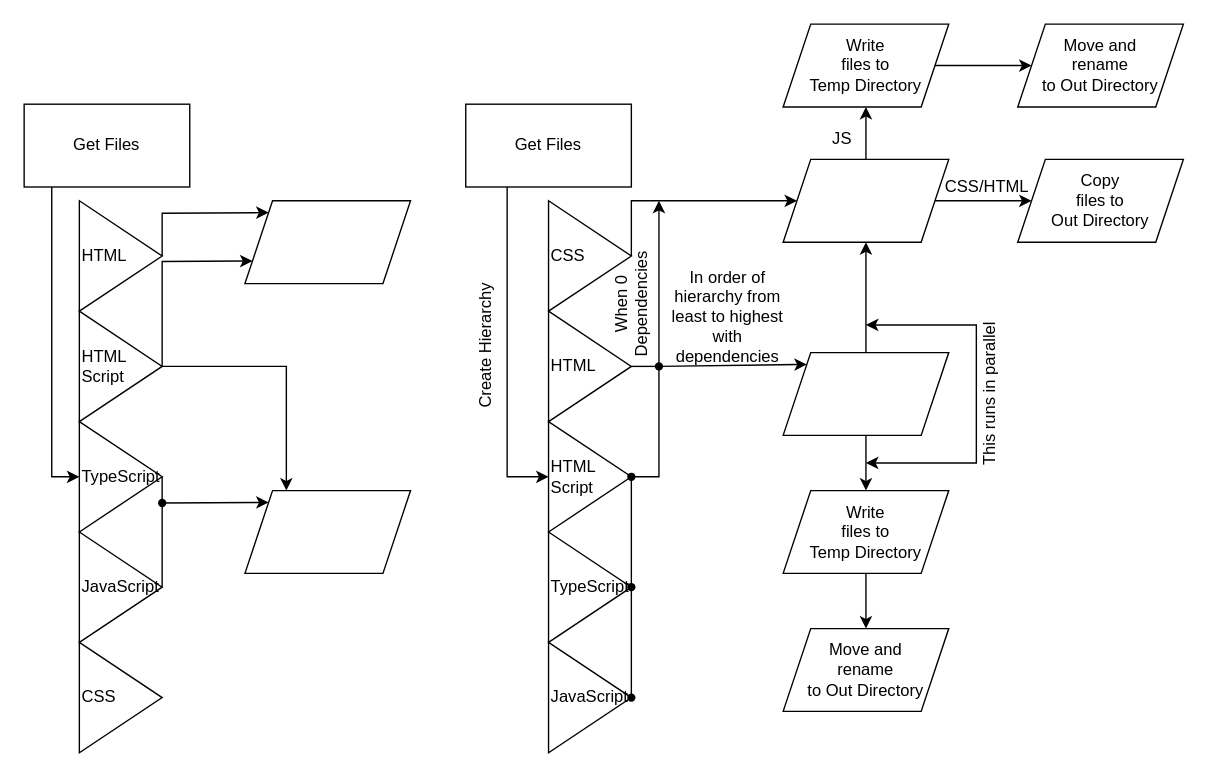
Some shapes in this 1208 by 777 pixel diagram are drawn without their labels. The shapes that lost their labels are listed below. From the top down, each one's centre as x and y in pixels, then its label:
At (x=865, y=200): "Get Hash of File".
At (x=327, y=241): "Get src/href dependencies".
At (x=865, y=393): "Write dependencies".
At (x=327, y=531): "Get Import Dependencies".
